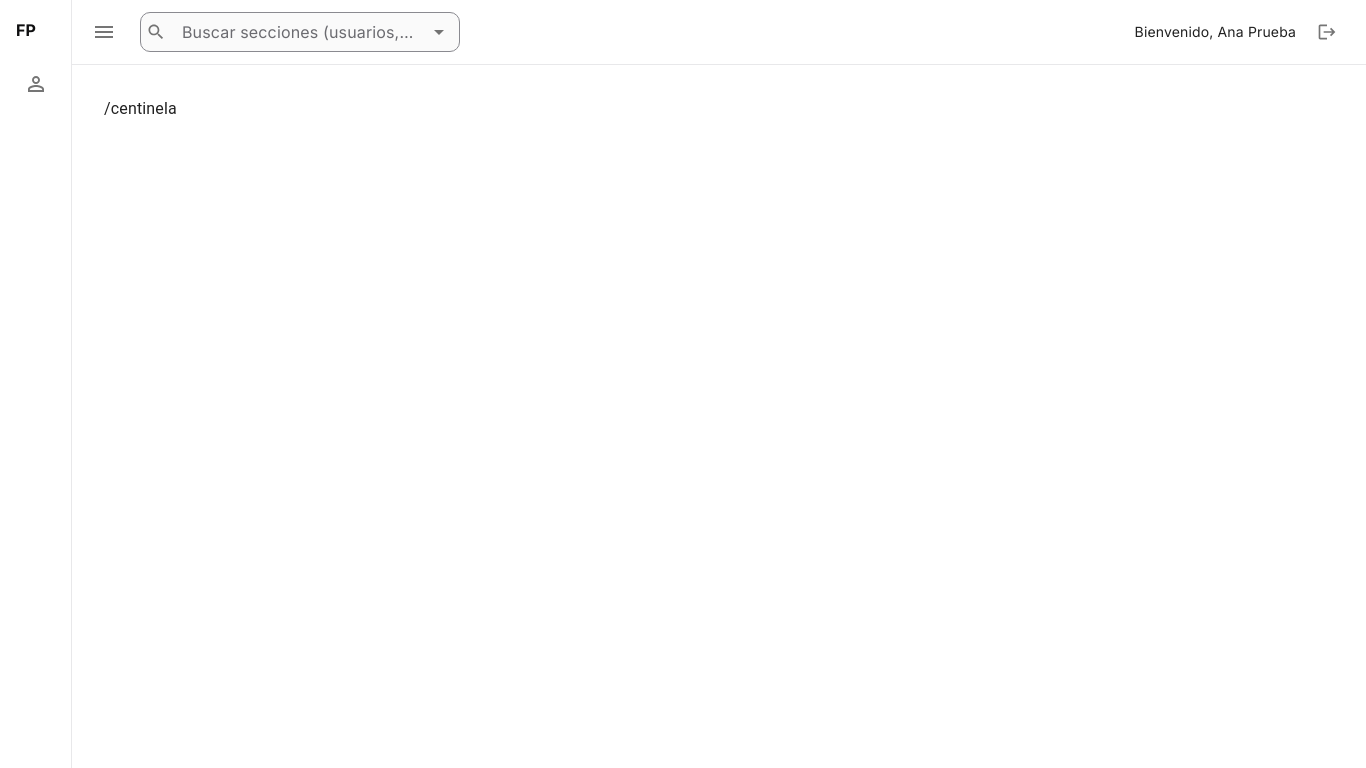
Test case: CLIENTE sin permisos conserva solo perfil y su comando
Click the button named "Abrir navegación" at x=104, y=32, box [84,12,124,52]
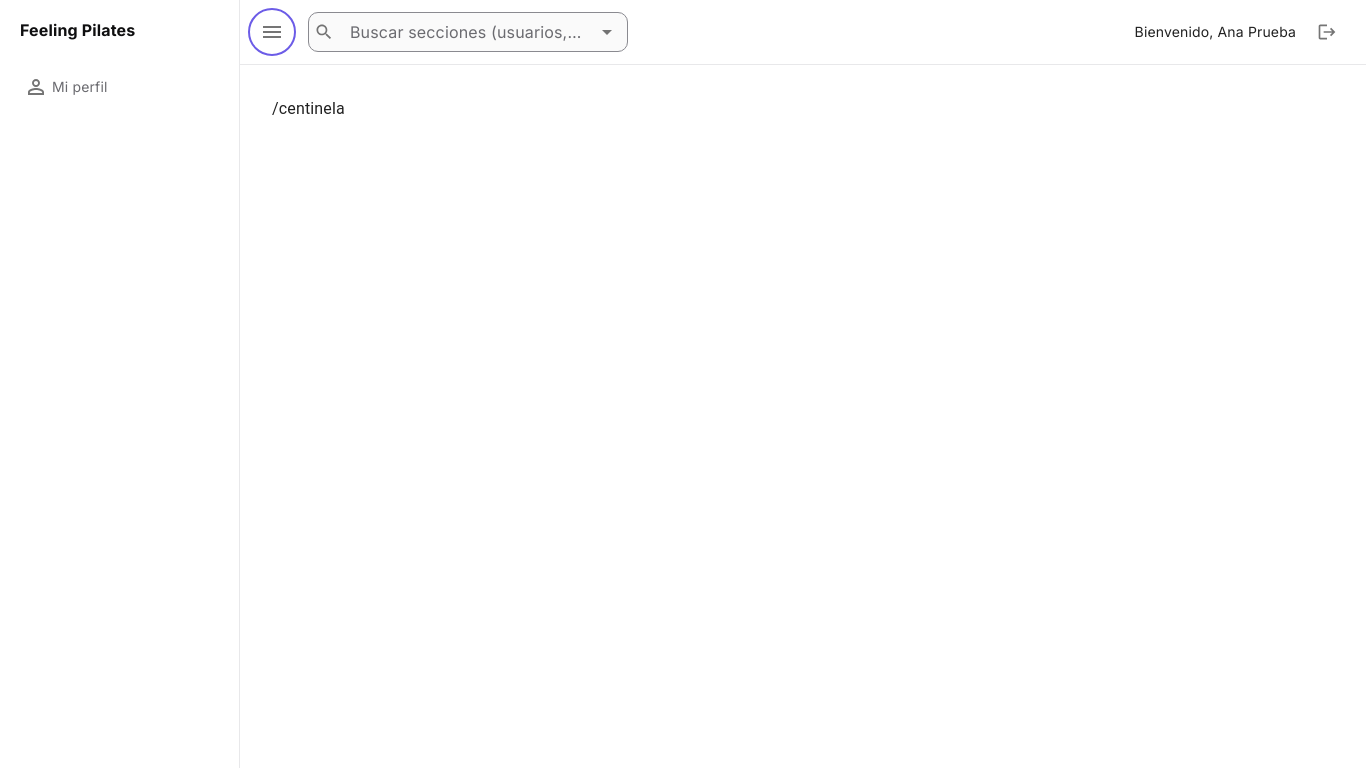
Click the dropdown at x=466, y=32, box [342,18,589,46]
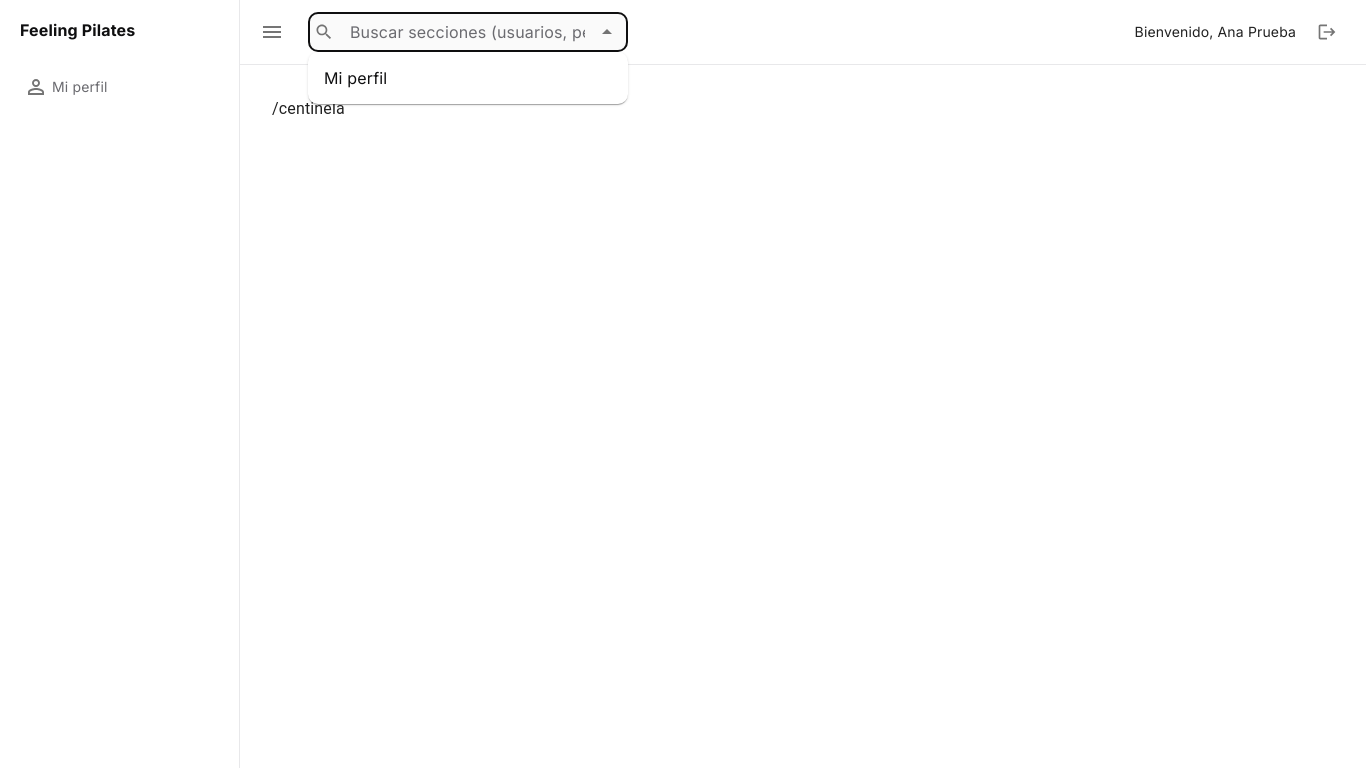
Check: the options read "Mi perfil", in this order, box [324,68,387,88]
